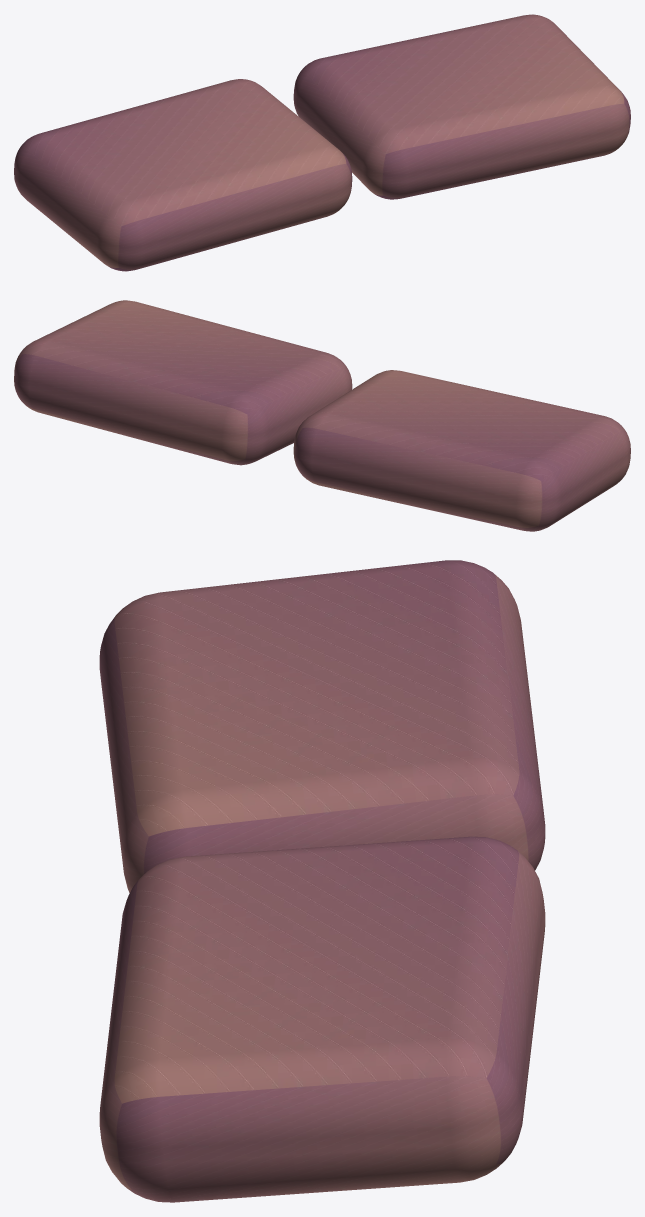
Rendered from state-default.glb.
The picture shows the model from 3 angles, top to bottom: view 1: azimuth 30°, elevation 25°; view 2: azimuth 150°, elevation 25°; view 3: azimuth 270°, elevation 25°; orthographic projection. The views are drawn at different scales.
Parts seen in each view (by area): view 1: assetPrim:94d820b5be849-19c7442b3c5:pillow-left, assetPrim:94d820b5be849-19c7442b3c5:pillow-right; view 2: assetPrim:94d820b5be849-19c7442b3c5:pillow-left, assetPrim:94d820b5be849-19c7442b3c5:pillow-right; view 3: assetPrim:94d820b5be849-19c7442b3c5:pillow-right, assetPrim:94d820b5be849-19c7442b3c5:pillow-left.
Boxes of the visible parts, x1=… form: assetPrim:94d820b5be849-19c7442b3c5:pillow-left: x1=14, y1=79, x2=352, y2=271; assetPrim:94d820b5be849-19c7442b3c5:pillow-right: x1=293, y1=14, x2=630, y2=199; assetPrim:94d820b5be849-19c7442b3c5:pillow-left: x1=293, y1=370, x2=630, y2=531; assetPrim:94d820b5be849-19c7442b3c5:pillow-right: x1=14, y1=300, x2=352, y2=465; assetPrim:94d820b5be849-19c7442b3c5:pillow-right: x1=99, y1=836, x2=545, y2=1202; assetPrim:94d820b5be849-19c7442b3c5:pillow-left: x1=99, y1=560, x2=545, y2=892.
Bounding box in the file's own units: 1.48 × 0.2157 × 0.5257.
Materials: 2 (2 with a texture image).
